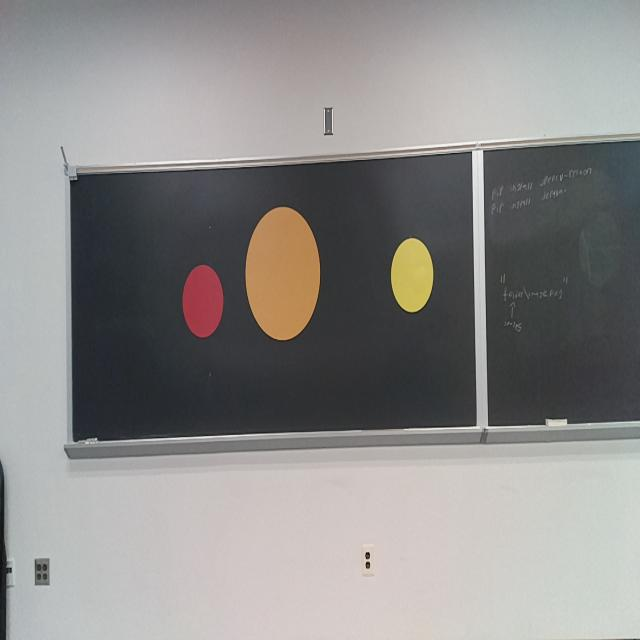Orange: (244, 205, 321, 342)
Red: (182, 263, 224, 339)
Yellow: (390, 236, 434, 314)
